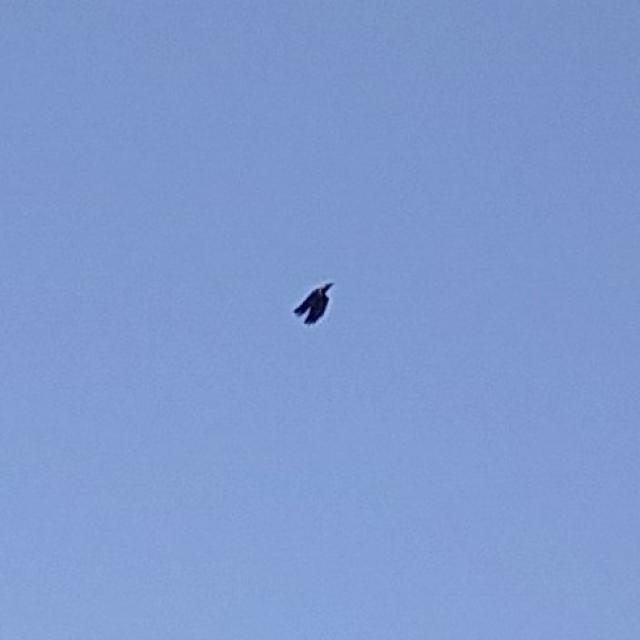bird: (288, 279, 338, 331)
